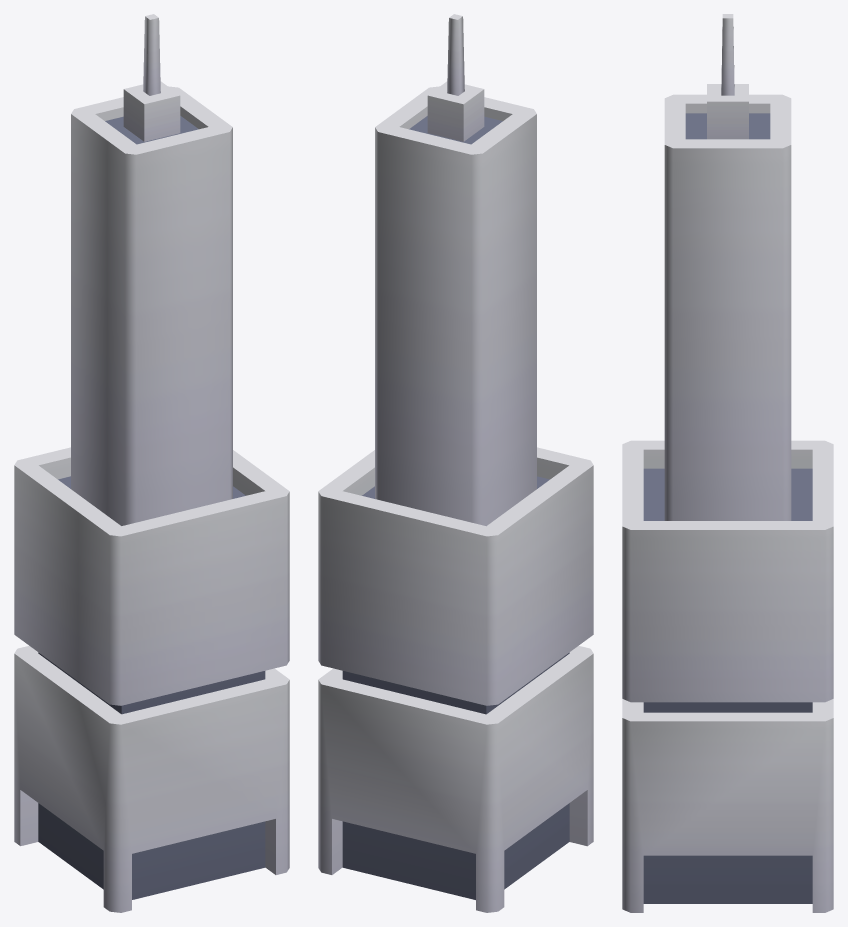
Rendered from low-detail-building-b.glb.
3 views of the same model, side by side, from view 1: azimuth 30°, elevation 25°; view 2: azimuth 150°, elevation 25°; view 3: azimuth 270°, elevation 25° (orthographic).
Visible parts, largest first — view 1: low-detail-building-b; view 2: low-detail-building-b; view 3: low-detail-building-b.
Boxes of the visible parts, x1,y1,x2,y2 form: low-detail-building-b: (14, 14, 289, 912); low-detail-building-b: (318, 14, 593, 912); low-detail-building-b: (622, 14, 833, 912).
Size of the model in its own units: 0.5001 by 2.23 by 0.5001.
1 material, 1 textured.
